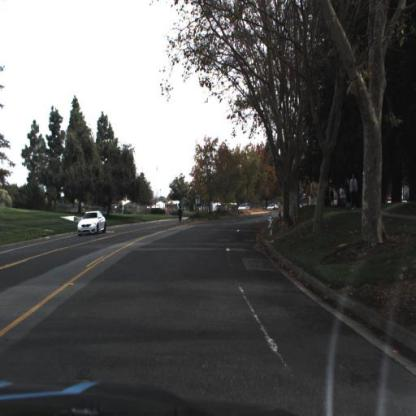biker: (177, 198, 187, 224), (177, 201, 186, 226)
car: (74, 207, 108, 239)
pedestrian: (338, 174, 351, 214), (350, 172, 360, 210), (338, 182, 346, 210), (345, 180, 352, 209)
